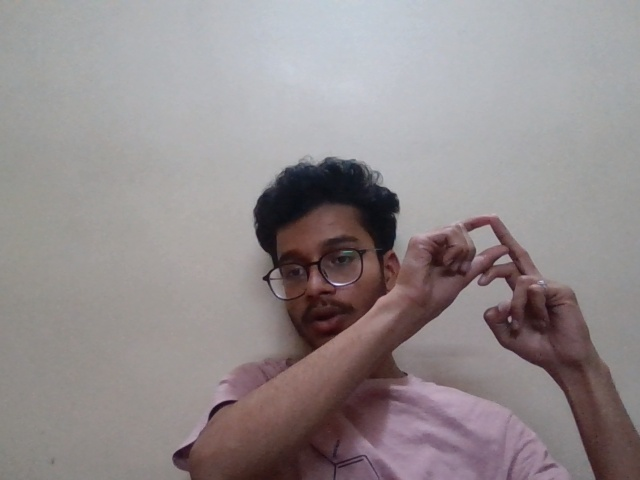R: (374, 209, 618, 382)
